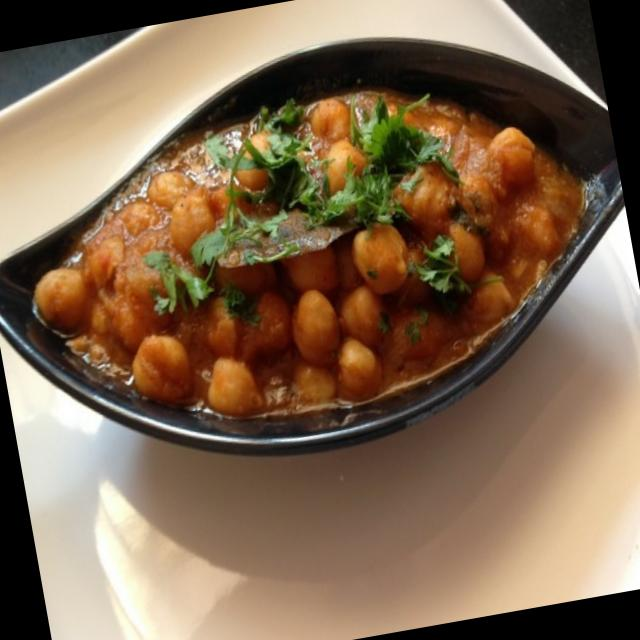Chole: (4, 54, 616, 457)
